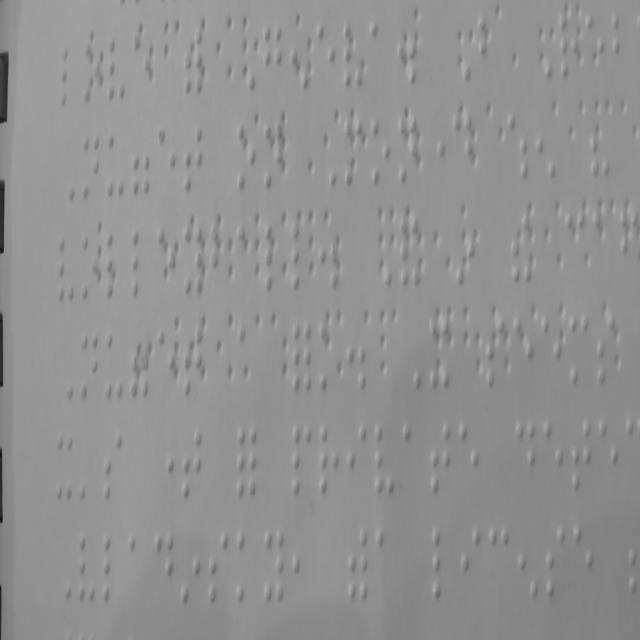braiile: (540, 409, 566, 506), (512, 409, 538, 505), (371, 414, 398, 502), (260, 522, 286, 610), (426, 308, 452, 396), (232, 523, 258, 610), (563, 202, 589, 288), (569, 407, 593, 500), (426, 415, 452, 500), (456, 413, 481, 501), (511, 308, 536, 396), (598, 407, 620, 506), (457, 520, 482, 606), (571, 516, 595, 604), (540, 308, 564, 396), (484, 310, 507, 400), (450, 106, 475, 188), (344, 414, 368, 498), (542, 523, 567, 603), (102, 421, 126, 504), (592, 202, 615, 288), (374, 521, 398, 603), (401, 416, 424, 501), (556, 4, 581, 81), (127, 523, 150, 606), (234, 116, 258, 194), (129, 223, 153, 300), (431, 520, 452, 608), (488, 523, 510, 607), (290, 415, 312, 498), (182, 119, 205, 198), (396, 109, 419, 188), (182, 221, 205, 300), (100, 524, 122, 606), (207, 524, 229, 606), (317, 316, 340, 394), (236, 212, 258, 293), (262, 115, 285, 192), (209, 218, 231, 298), (290, 218, 312, 298), (182, 319, 204, 399), (181, 424, 203, 504), (568, 310, 590, 390), (264, 217, 286, 296), (76, 522, 96, 608), (595, 307, 617, 385), (369, 113, 391, 190), (153, 528, 174, 608), (58, 36, 80, 112), (342, 17, 364, 93), (104, 226, 126, 302), (156, 220, 178, 296), (476, 11, 498, 87), (343, 114, 364, 193), (314, 17, 336, 92), (56, 228, 76, 309), (104, 325, 124, 406), (81, 40, 104, 110), (132, 31, 154, 104), (156, 320, 177, 396), (157, 123, 178, 198), (584, 6, 605, 81), (238, 318, 258, 396), (80, 230, 101, 304), (318, 421, 339, 495), (368, 15, 388, 90), (610, 8, 631, 78), (82, 128, 101, 203), (54, 428, 73, 503), (106, 127, 125, 201), (263, 22, 283, 92), (79, 331, 99, 401), (106, 36, 126, 104)
